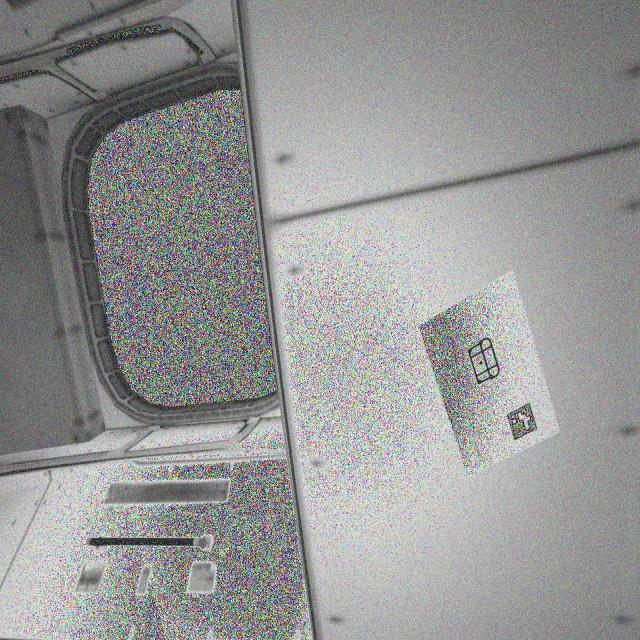treasure_box: (461, 333, 505, 389)
